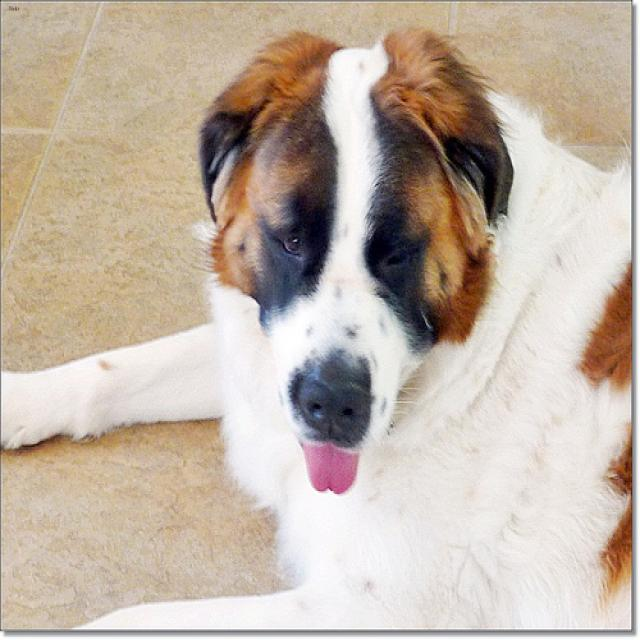dog-saint_bernard: (1, 18, 637, 637)
